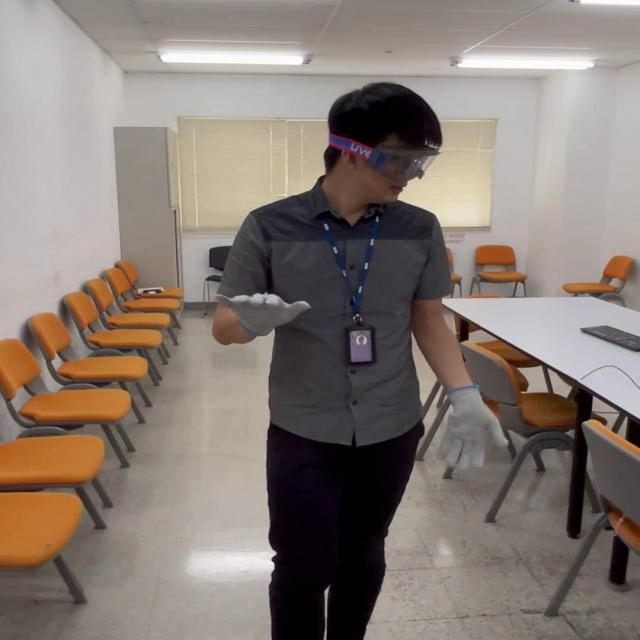gloved_hand: (423, 388, 508, 465), (217, 276, 315, 336)
